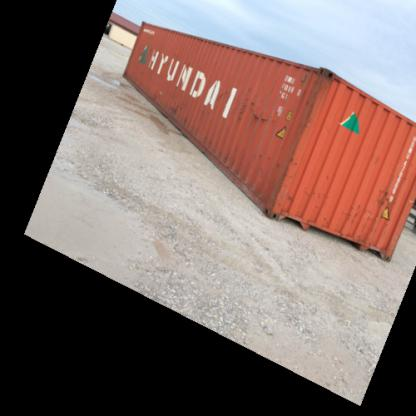Damage: (298, 63, 329, 127), (236, 85, 278, 127), (198, 131, 236, 164), (165, 93, 196, 128), (251, 147, 285, 173), (345, 201, 368, 235), (374, 182, 396, 213), (280, 187, 297, 206)
